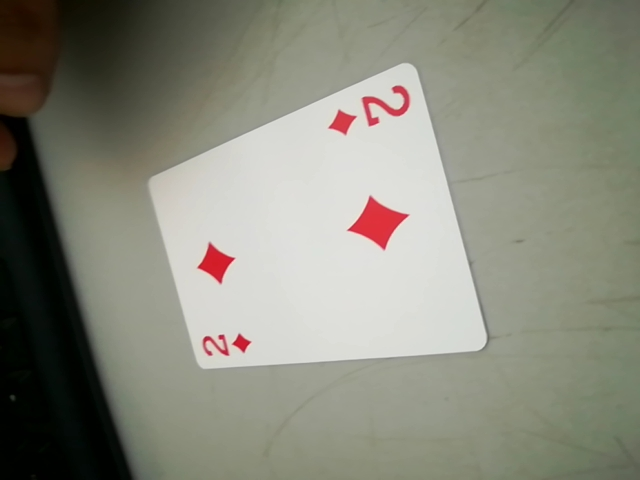fk 2: (322, 80, 417, 140), (199, 322, 259, 367)
